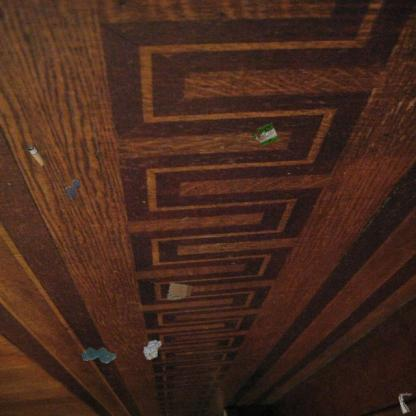dirty: (249, 121, 281, 148), (165, 282, 194, 302), (25, 143, 47, 166), (142, 338, 164, 361), (398, 392, 414, 416)
liquid: (80, 346, 116, 364), (65, 178, 81, 198)
